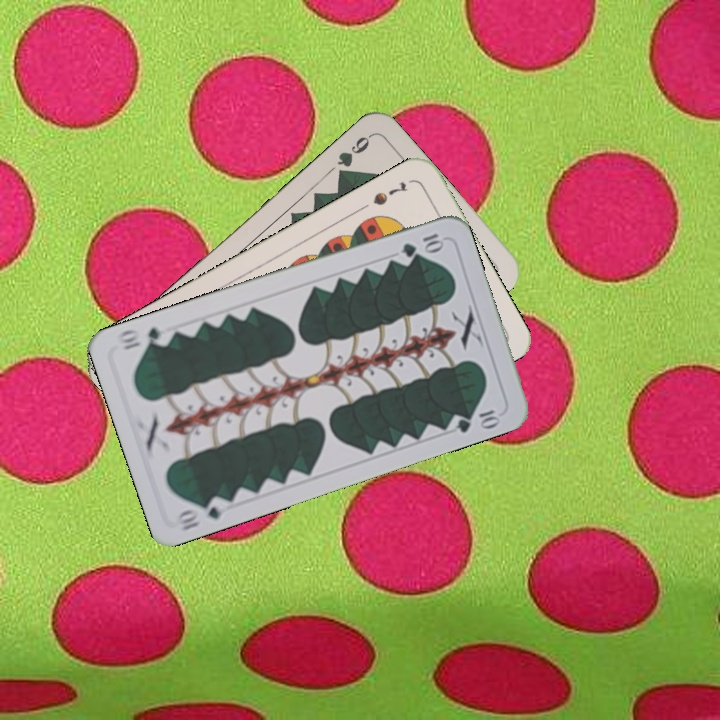G10: (174, 493, 232, 534), (398, 229, 447, 260)
G9: (333, 130, 374, 182)
S7: (369, 177, 410, 208)
